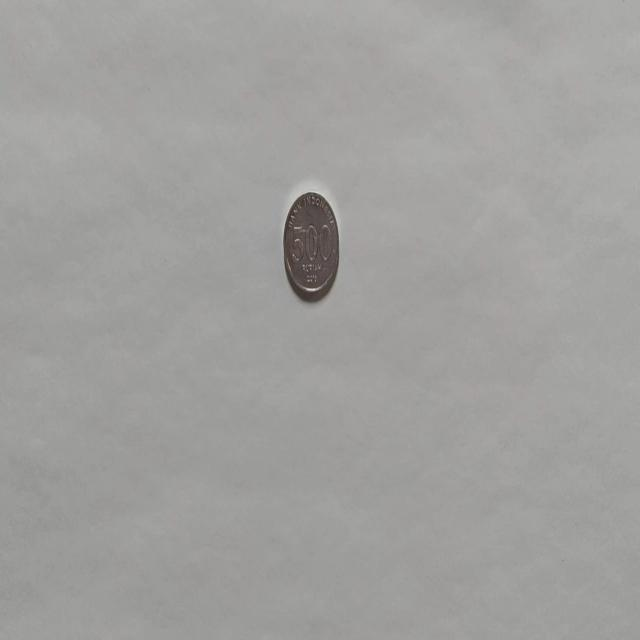lima ratus rupiah: (282, 190, 340, 302)
